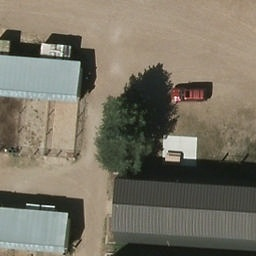car: (169, 88, 208, 102)
